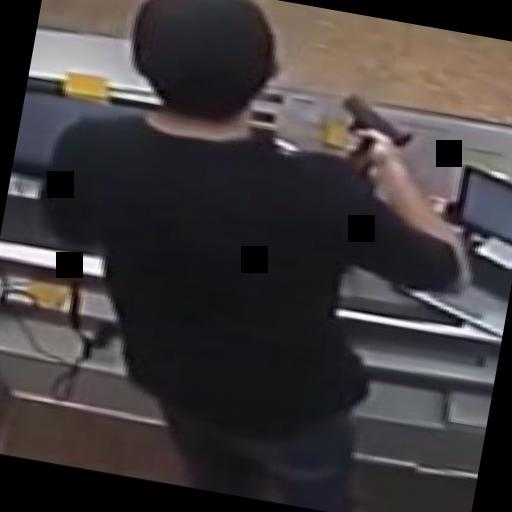Handgun: (320, 83, 422, 174)
